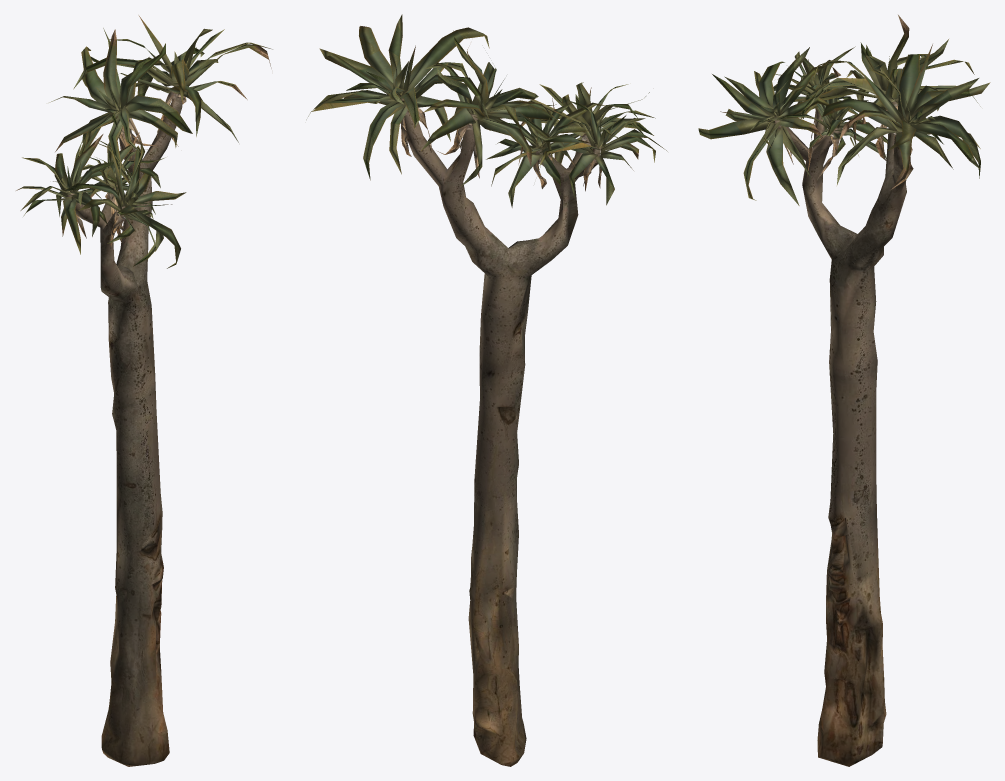
File: quiver_tree_01.glb
3 renders of one model, left to right at view 1: azimuth 30°, elevation 25°; view 2: azimuth 150°, elevation 25°; view 3: azimuth 270°, elevation 25°, orthographic. The views are drawn at different scales.
Parts seen in each view (by area): view 1: quiver_tree_01; view 2: quiver_tree_01; view 3: quiver_tree_01.
Boxes of the visible parts, x1,y1,x2,y2 form: quiver_tree_01: (16,15,272,766); quiver_tree_01: (306,14,667,766); quiver_tree_01: (698,15,990,766).
Size of the model in its own units: 1.18 by 2.72 by 0.9615.
Materials: 2 (2 with a texture image).
